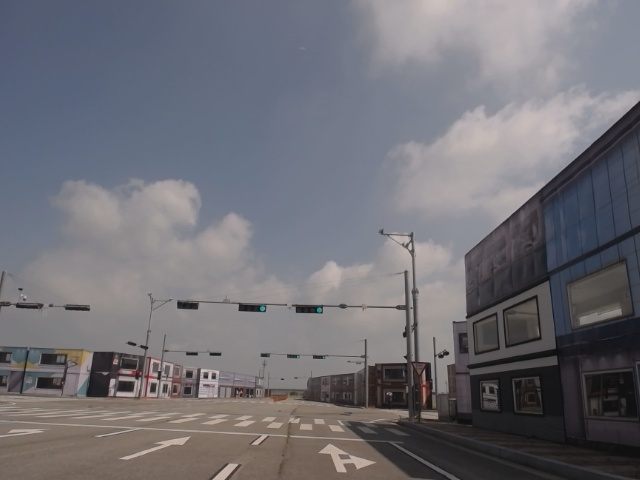straight_green_4: (240, 303, 268, 312), (297, 305, 323, 313)
